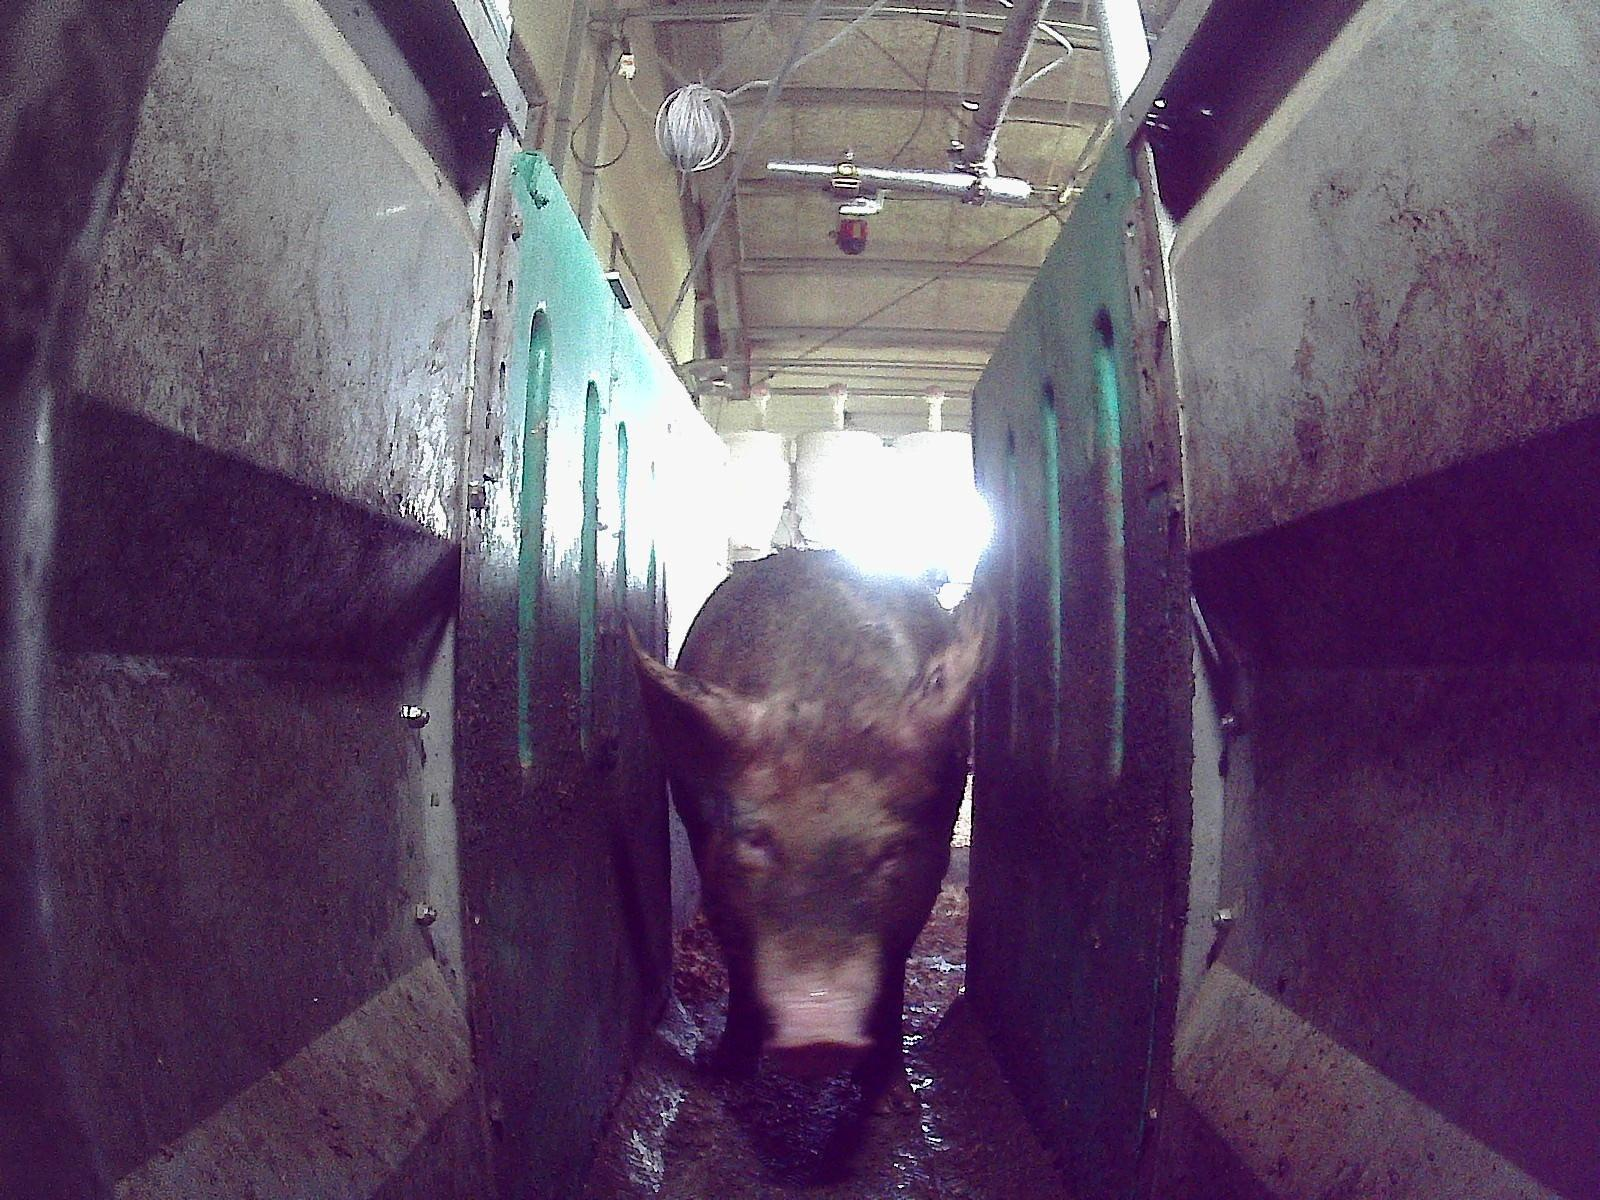Face: (705, 722, 928, 1076)
